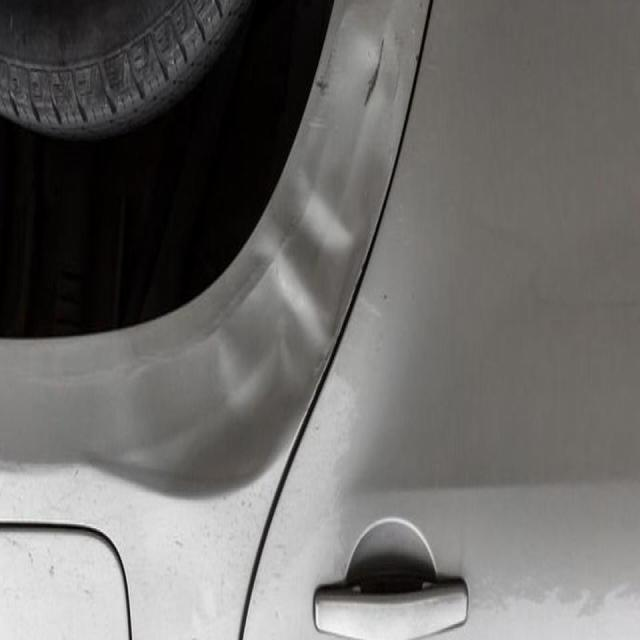dent: (172, 146, 400, 509)
